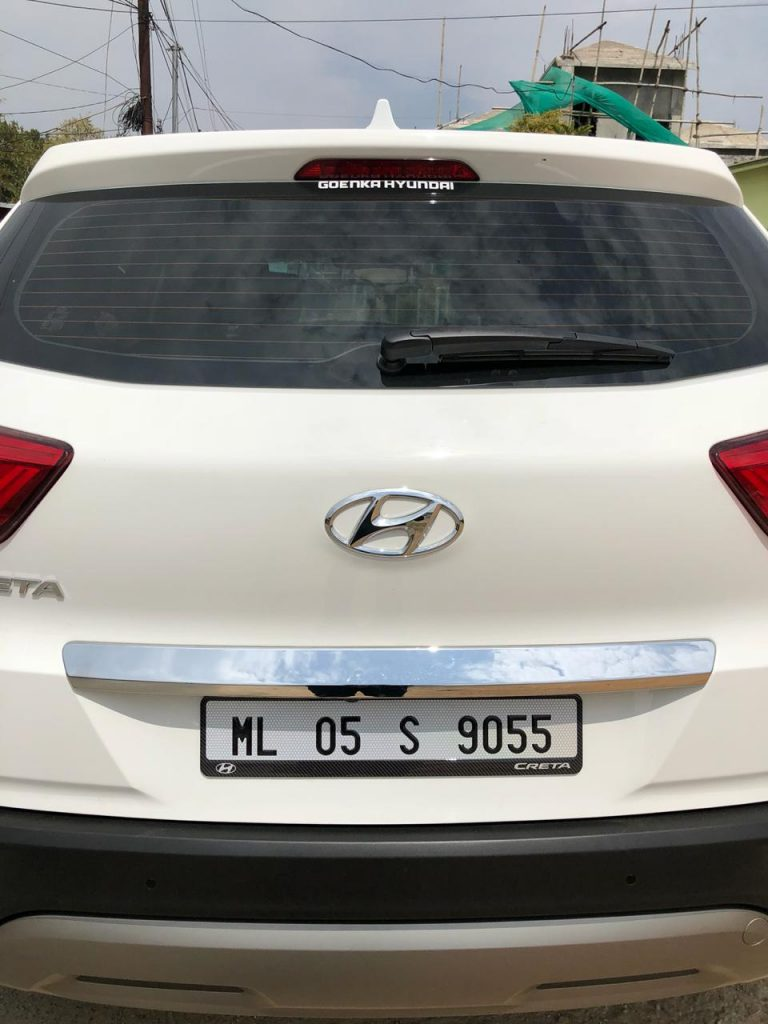number_plate: (197, 690, 588, 782)
